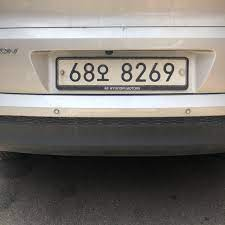car: (49, 51, 195, 96)
